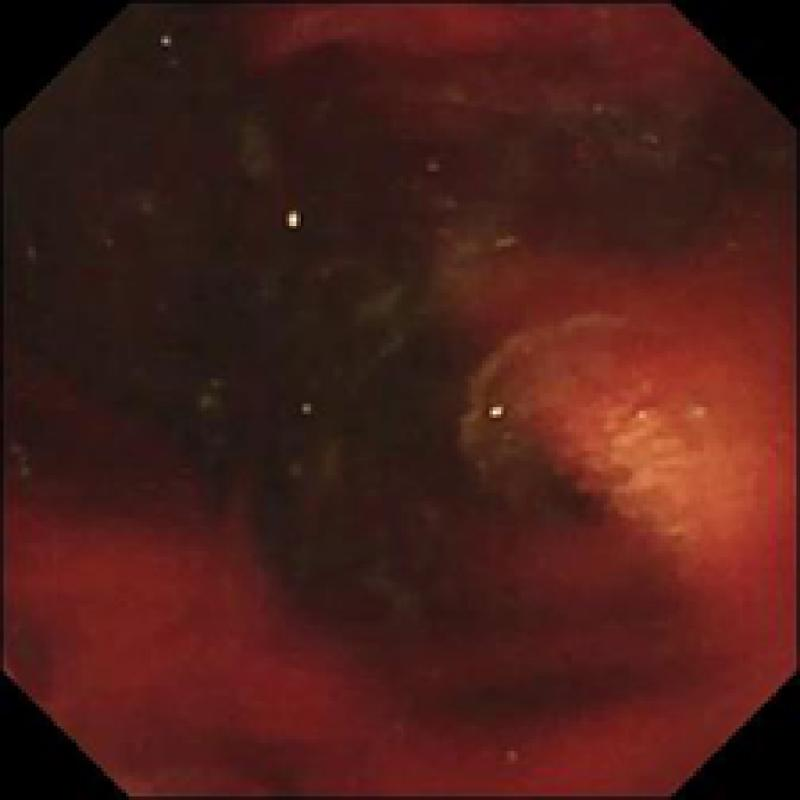bleeding: (0, 482, 800, 800), (452, 159, 800, 429), (235, 0, 750, 89)
